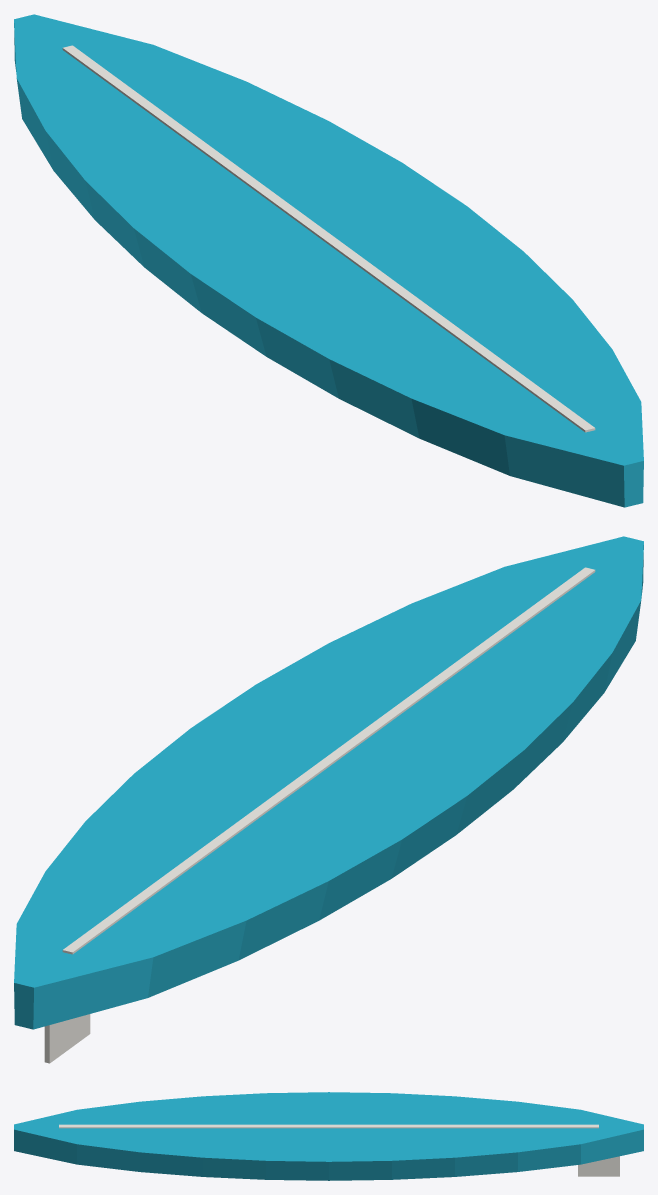
File: surfboard.glb
3 renders of one model, top to bottom at view 1: azimuth 30°, elevation 25°; view 2: azimuth 150°, elevation 25°; view 3: azimuth 270°, elevation 25°, orthographic. The views are drawn at different scales.
Parts seen in each view (by area): view 1: surfboard; view 2: surfboard; view 3: surfboard.
Part boxes in pixels (<box>): surfboard: <box>14,14,643,507</box>; surfboard: <box>14,536,643,1063</box>; surfboard: <box>14,1092,643,1180</box>.
Size of the model in its own units: 0.55 by 0.184 by 2.1.
